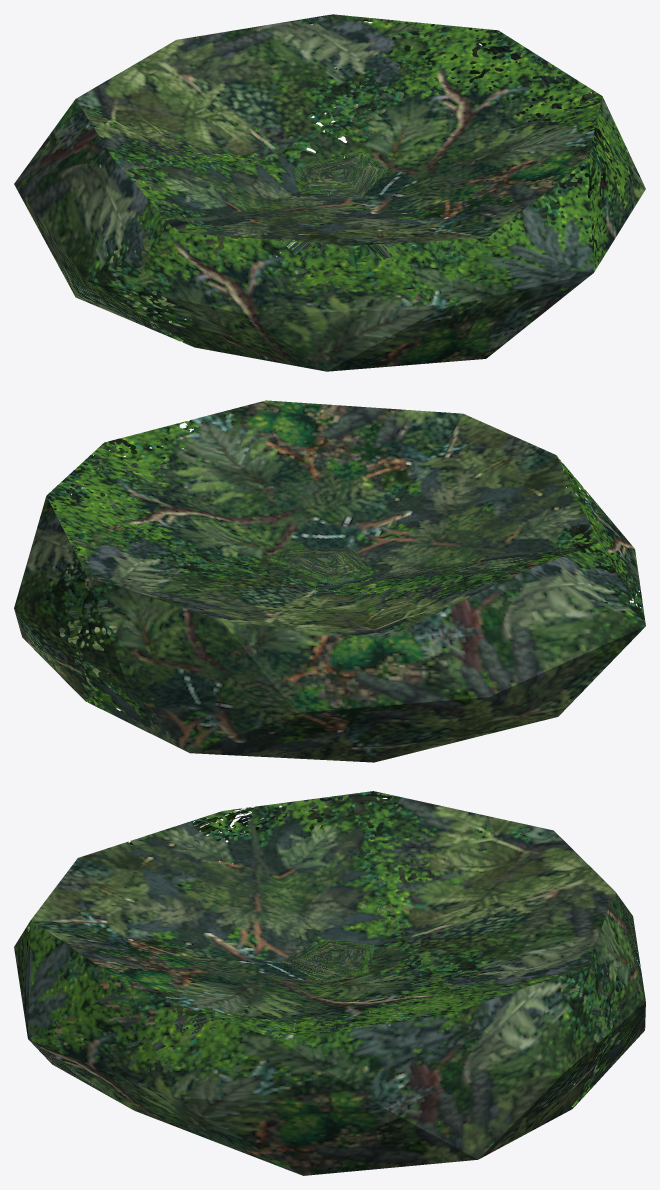
File: MTree_1_Bch_2.gltf
3 views of the same model, one above another, from view 1: azimuth 30°, elevation 25°; view 2: azimuth 150°, elevation 25°; view 3: azimuth 270°, elevation 25° (orthographic). The views are drawn at different scales.
Parts seen in each view (by area): view 1: MTree_1_Bch_2; view 2: MTree_1_Bch_2; view 3: MTree_1_Bch_2.
Boxes of the visible parts, x1,y1,x2,y2 form: MTree_1_Bch_2: [14, 14, 645, 371]; MTree_1_Bch_2: [14, 400, 645, 762]; MTree_1_Bch_2: [14, 791, 645, 1175].
Bounding box in the file's own units: 8.41 × 2.21 × 8.05.
1 material, 1 textured.
